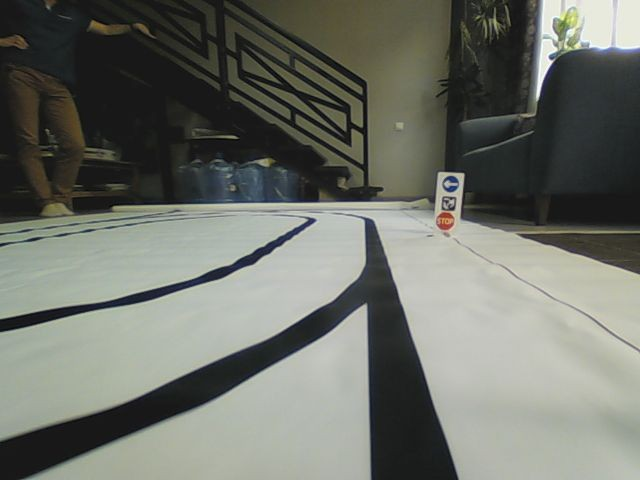Stop: (434, 211, 456, 231)
